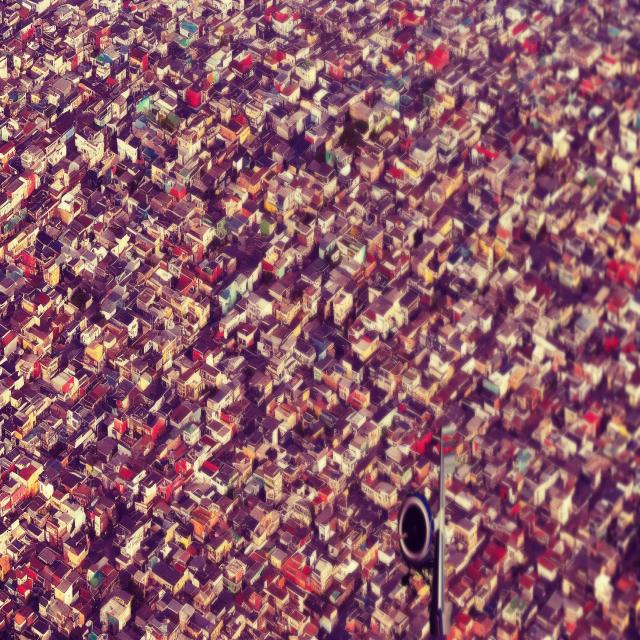airplane: (397, 428, 452, 635)
